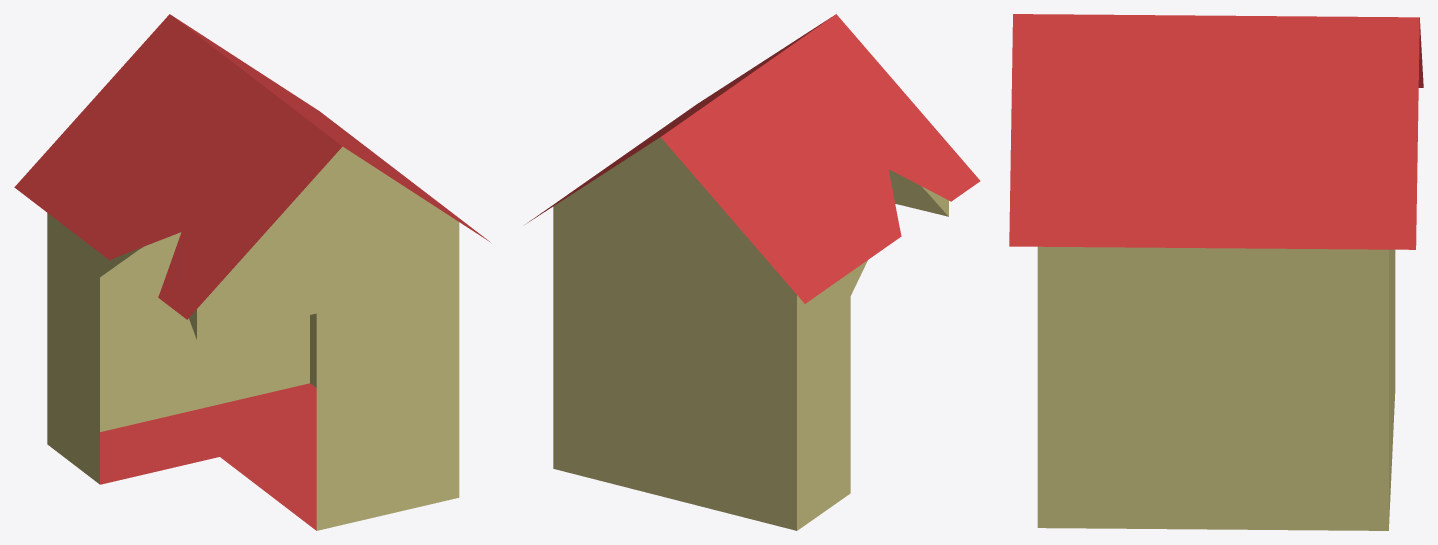
3 views of the same model, side by side, from view 1: azimuth 30°, elevation 25°; view 2: azimuth 150°, elevation 25°; view 3: azimuth 270°, elevation 25° (orthographic). The views are drawn at different scales.
Size of the model in its own units: 10.92 by 11.2 by 13.22.
